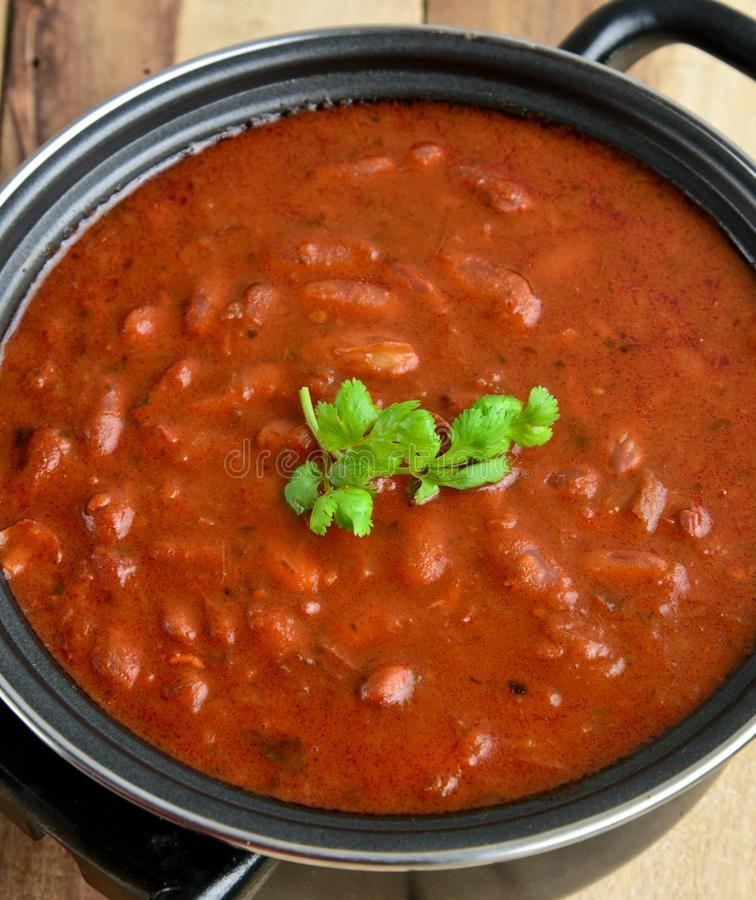RajmaCurry: (0, 95, 756, 812)
